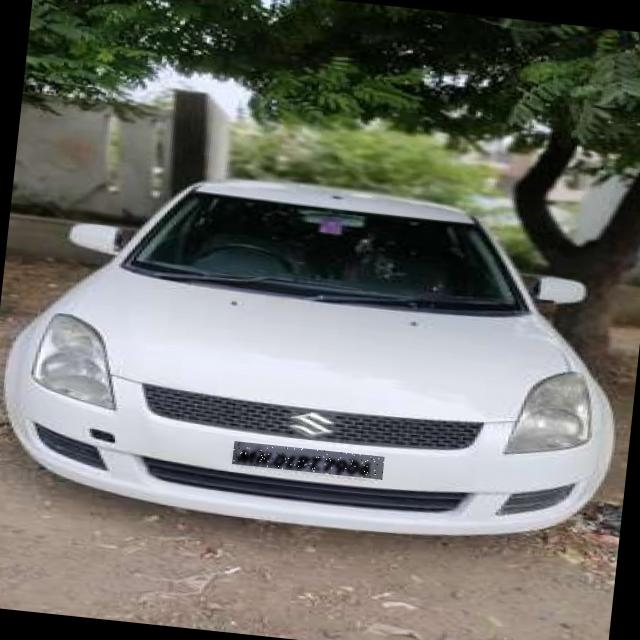Plate: (233, 442, 386, 481)
